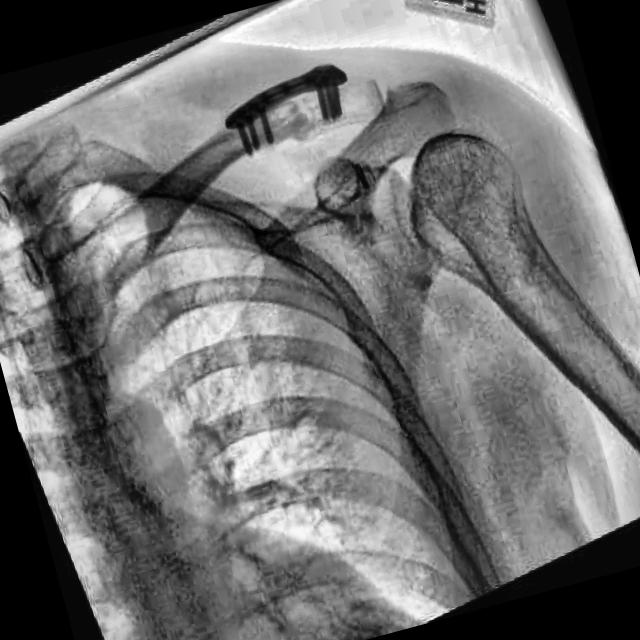shoulder fracture: (270, 97, 330, 150)
